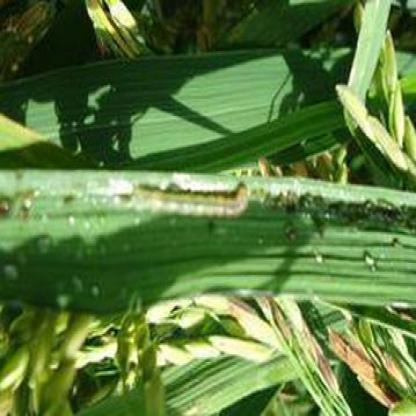leaf-folder: (128, 152, 266, 247)
